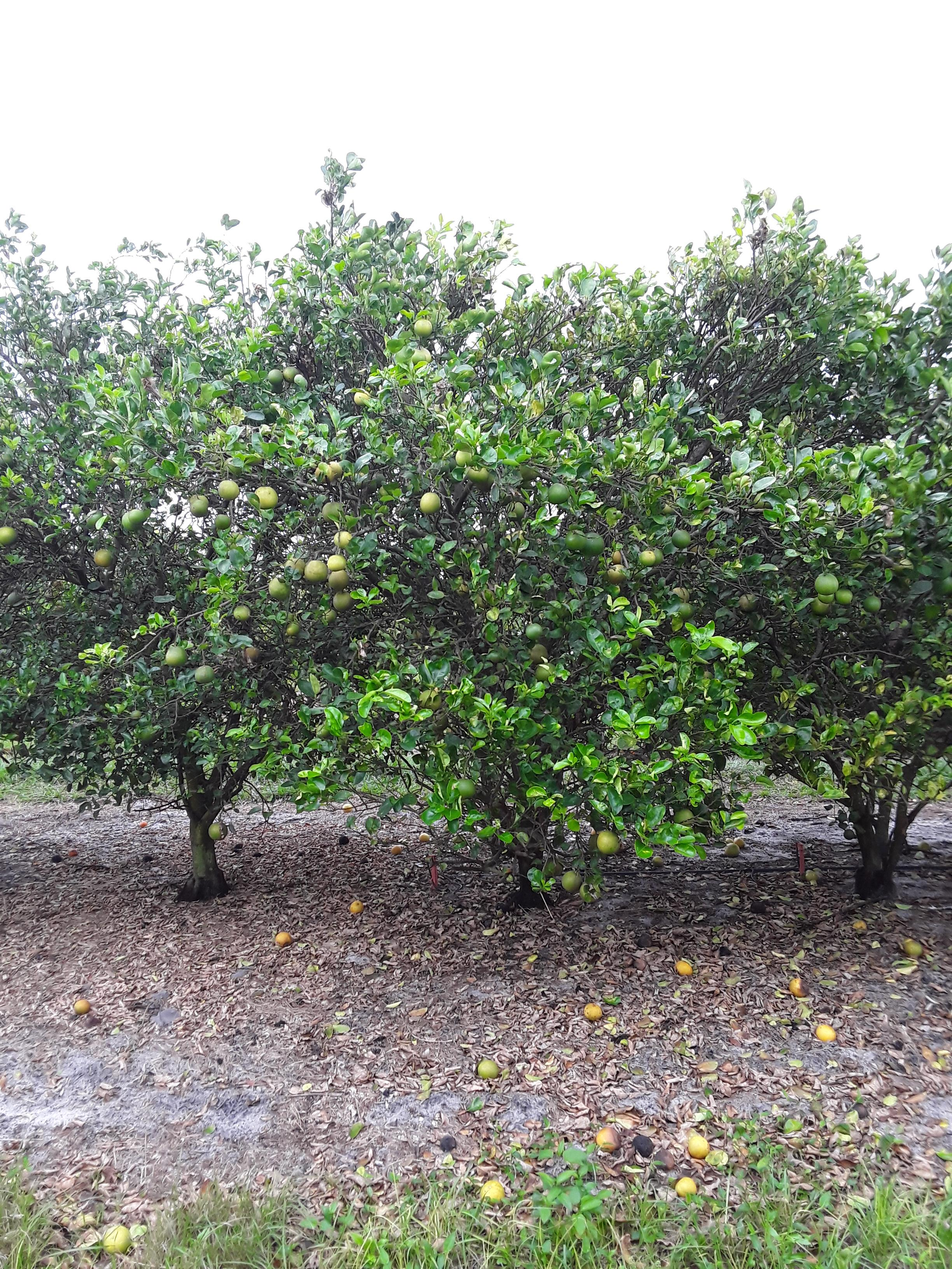fruit_on_ground: (590, 827, 623, 858), (466, 462, 496, 490), (888, 555, 917, 582), (252, 484, 280, 511), (266, 575, 294, 602), (302, 558, 329, 585), (417, 489, 444, 516), (558, 866, 584, 893), (417, 685, 445, 710), (216, 477, 242, 503), (813, 572, 840, 597), (163, 644, 190, 669), (91, 545, 117, 570), (564, 528, 589, 553), (582, 531, 606, 557), (545, 481, 571, 505), (410, 344, 435, 368), (282, 554, 306, 579), (349, 386, 374, 410), (411, 315, 436, 339), (309, 461, 334, 484), (650, 497, 675, 520), (669, 526, 693, 549), (192, 664, 216, 687), (832, 585, 854, 610), (807, 595, 832, 617), (737, 590, 760, 613), (452, 446, 476, 468), (119, 510, 143, 532), (327, 570, 351, 592), (332, 591, 356, 613), (454, 777, 478, 799), (672, 805, 696, 827), (527, 642, 550, 664), (861, 592, 884, 614), (326, 551, 350, 572), (933, 573, 952, 599), (332, 528, 354, 550), (543, 855, 565, 877), (324, 459, 345, 482), (642, 545, 665, 566), (603, 566, 627, 586), (0, 523, 19, 548), (231, 603, 253, 624), (136, 725, 159, 745), (669, 585, 692, 605), (212, 510, 233, 531), (206, 821, 228, 841), (83, 509, 106, 528), (317, 606, 338, 626), (506, 499, 527, 519), (635, 548, 656, 568), (189, 498, 209, 519), (5, 590, 27, 609), (532, 664, 554, 683), (523, 622, 545, 641), (188, 493, 210, 512), (676, 601, 696, 621), (265, 366, 285, 386), (816, 587, 836, 606), (281, 364, 300, 383), (241, 643, 261, 661), (607, 548, 626, 566), (285, 620, 303, 638), (129, 508, 147, 526), (361, 816, 380, 832), (128, 709, 144, 722), (842, 828, 858, 840)
fruit_on_tree: (98, 1221, 134, 1257), (477, 1179, 506, 1208), (593, 1125, 620, 1152), (686, 1133, 711, 1160), (475, 1057, 502, 1081), (630, 1133, 655, 1158), (673, 1175, 699, 1198), (788, 974, 811, 999), (814, 1022, 838, 1045), (653, 1150, 677, 1172), (901, 937, 926, 958), (71, 995, 93, 1017), (583, 1001, 604, 1023), (673, 957, 695, 978), (272, 928, 294, 948), (748, 898, 770, 916), (438, 1133, 458, 1152), (633, 932, 654, 949), (850, 916, 868, 933), (723, 841, 741, 858), (714, 944, 734, 959), (348, 898, 365, 915), (803, 868, 819, 883), (649, 855, 665, 869), (48, 851, 64, 864), (341, 801, 355, 815), (731, 837, 746, 850), (336, 833, 351, 846), (139, 851, 154, 863), (65, 847, 80, 859), (918, 840, 933, 852), (737, 876, 751, 888), (389, 843, 403, 855), (416, 832, 430, 844), (138, 819, 150, 829)
